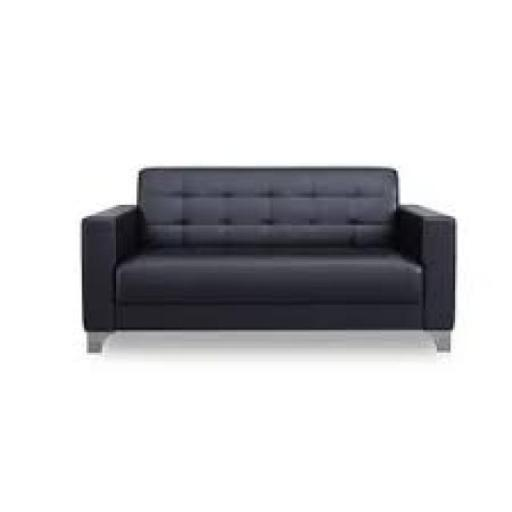sofa: (53, 142, 512, 376)
